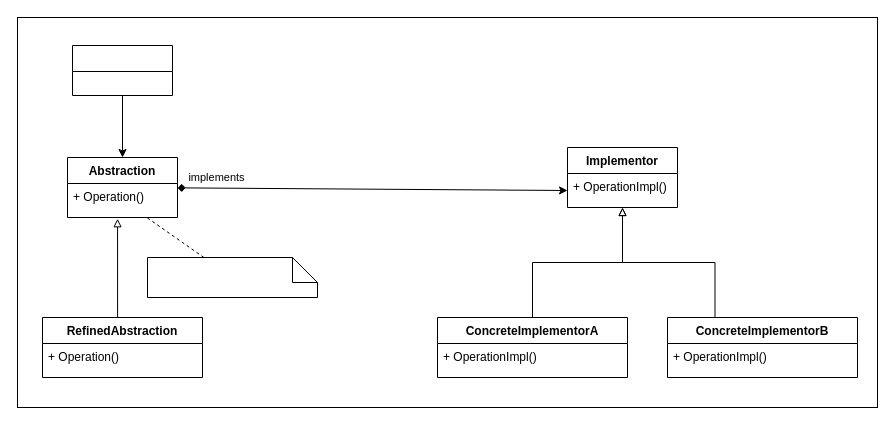
Some shapes in this 895 by 425 pixel diagram are drawn without their labels. Here are the shapes that lost their labels. From the top down, the centre of each, then its label:
(122,70): Client
(232,277): impl.OperationImpl()
